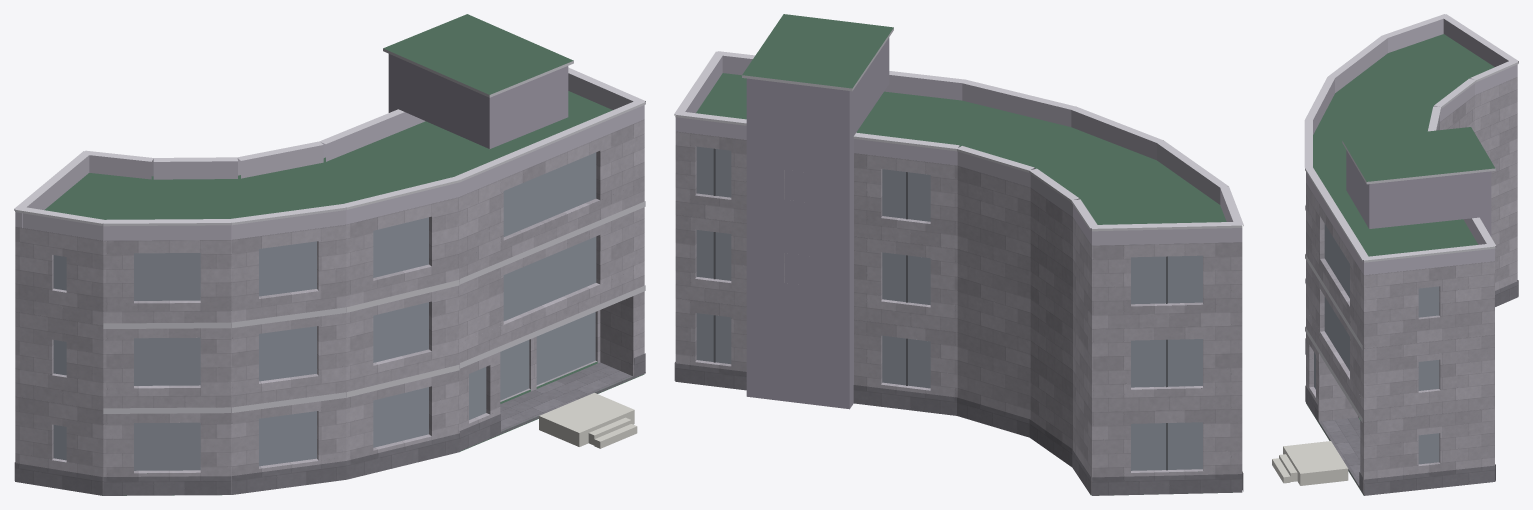
3 renders of one model, left to right at view 1: azimuth 30°, elevation 25°; view 2: azimuth 150°, elevation 25°; view 3: azimuth 270°, elevation 25°, orthographic. The views are drawn at different scales.
Visible parts, largest first — view 1: b30_2__wall, b30_2__glass, b30_2__roof, b30_2__parapet, b30_2__trim, b30_2__base, b30_2__wall2, b30_2__entranceStair; view 2: b30_2__wall, b30_2__wall2, b30_2__roof, b30_2__glass, b30_2__parapet, b30_2__base, b30_2__trim, b30_2__frame; view 3: b30_2__wall, b30_2__roof, b30_2__parapet, b30_2__wall2, b30_2__trim, b30_2__base, b30_2__glass, b30_2__entranceStair.
Boxes of the visible parts, x1=… form: b30_2__wall: x1=15, y1=119, x2=644, y2=495; b30_2__glass: x1=53, y1=152, x2=596, y2=470; b30_2__roof: x1=44, y1=14, x2=644, y2=495; b30_2__parapet: x1=15, y1=73, x2=644, y2=240; b30_2__trim: x1=14, y1=48, x2=645, y2=413; b30_2__base: x1=14, y1=353, x2=645, y2=495; b30_2__wall2: x1=388, y1=54, x2=568, y2=148; b30_2__entranceStair: x1=539, y1=393, x2=637, y2=448; b30_2__wall: x1=675, y1=131, x2=1242, y2=494; b30_2__wall2: x1=746, y1=37, x2=889, y2=409; b30_2__roof: x1=696, y1=14, x2=1232, y2=495; b30_2__glass: x1=696, y1=146, x2=1202, y2=470; b30_2__parapet: x1=675, y1=55, x2=1242, y2=245; b30_2__base: x1=674, y1=362, x2=1243, y2=495; b30_2__trim: x1=674, y1=28, x2=1243, y2=231; b30_2__frame: x1=713, y1=148, x2=1167, y2=470; b30_2__wall: x1=1306, y1=77, x2=1517, y2=493; b30_2__roof: x1=1306, y1=34, x2=1494, y2=495; b30_2__parapet: x1=1306, y1=18, x2=1517, y2=275; b30_2__wall2: x1=1346, y1=150, x2=1491, y2=236; b30_2__trim: x1=1304, y1=14, x2=1518, y2=422; b30_2__base: x1=1305, y1=280, x2=1518, y2=495; b30_2__glass: x1=1314, y1=224, x2=1439, y2=464; b30_2__entranceStair: x1=1272, y1=441, x2=1348, y2=485.
Size of the model in its own units: 25.94 by 14.47 by 10.97.
Materials: 10 (2 with a texture image).
